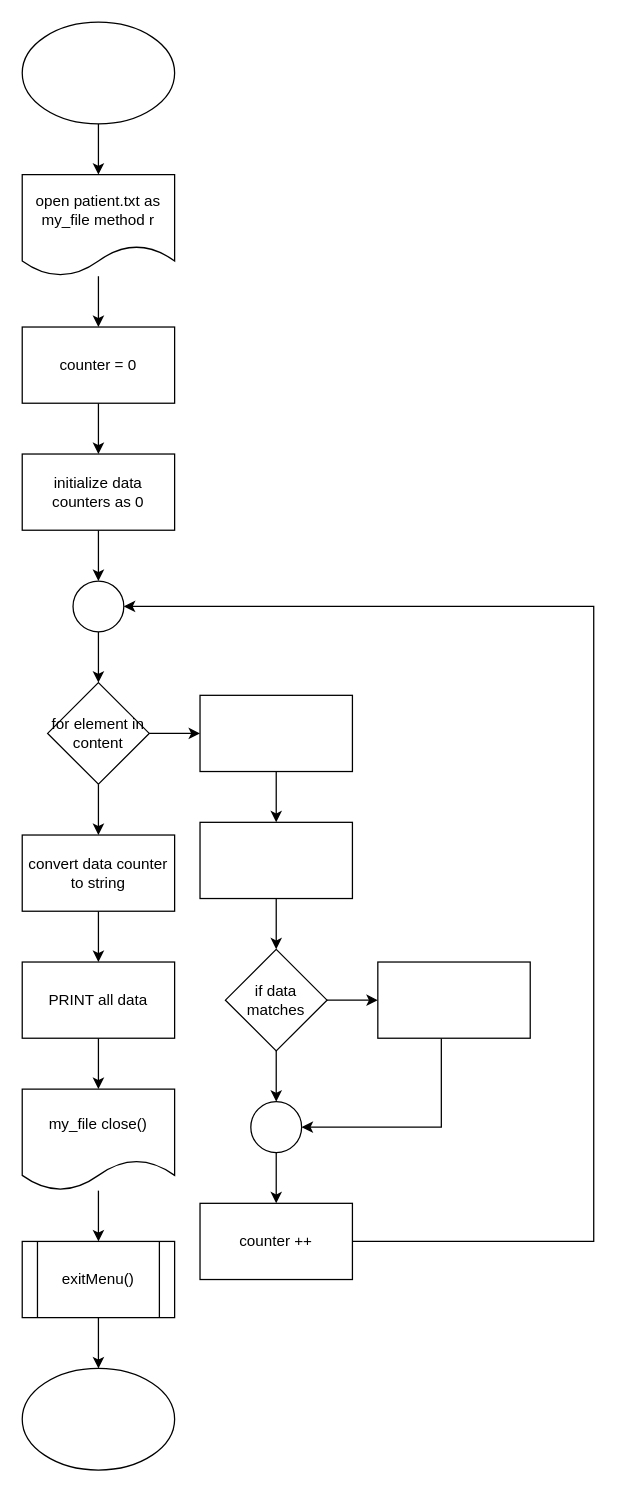
The diagram is 626 pixels wide and 1492 high, and some of its shapes have lost their labels. Each missing label, with the centre of its shape:
data counter ++: pixel 453 999
del newContent[-1]: pixel 275 860
End: pixel 98 1418
newContent = content[counter]: pixel 275 733
Start: pixel 98 72
